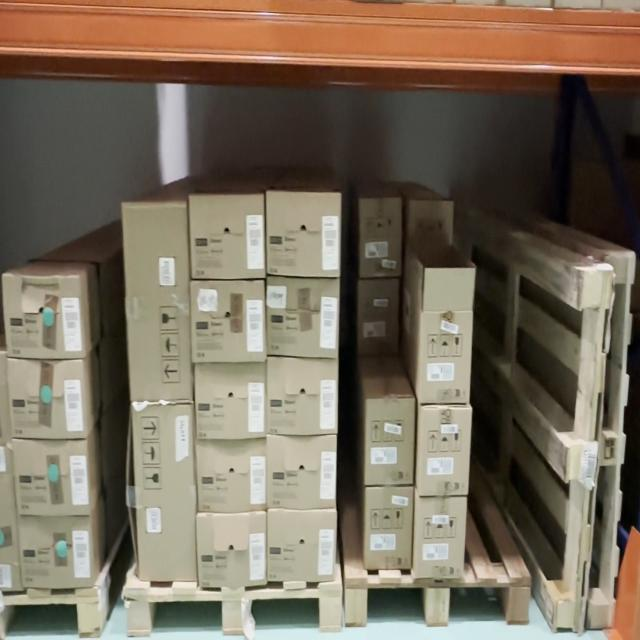box: (122, 203, 190, 400), (133, 405, 197, 579), (4, 273, 84, 357), (424, 274, 471, 405), (190, 199, 264, 279), (12, 441, 90, 515), (7, 361, 84, 435), (17, 514, 94, 587), (269, 195, 338, 274), (269, 280, 337, 357), (268, 359, 337, 434), (193, 284, 263, 357), (198, 512, 264, 589), (197, 365, 265, 435), (198, 441, 267, 509), (268, 512, 335, 582), (268, 442, 336, 507), (421, 408, 469, 496), (368, 400, 414, 486), (416, 498, 465, 570), (367, 492, 412, 570)
